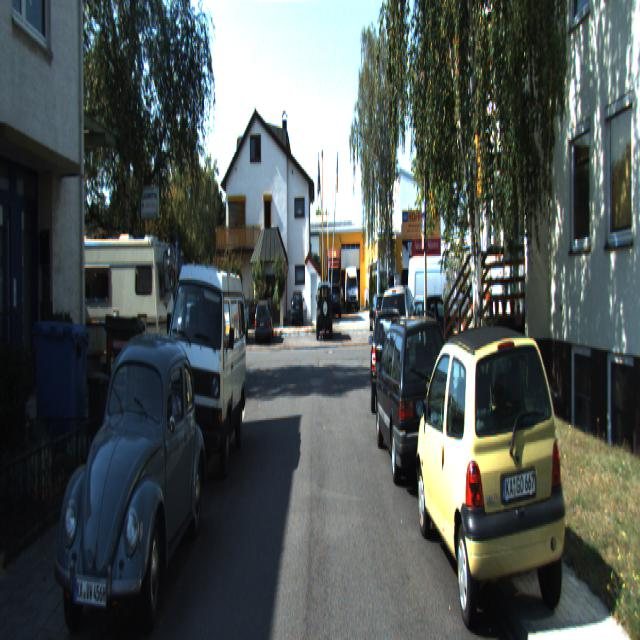Car: (44, 328, 212, 638), (414, 312, 572, 637), (46, 238, 183, 400), (160, 253, 248, 488), (372, 309, 463, 490), (406, 250, 478, 342), (378, 280, 421, 380), (370, 304, 408, 409), (315, 278, 332, 338), (253, 299, 273, 343)
